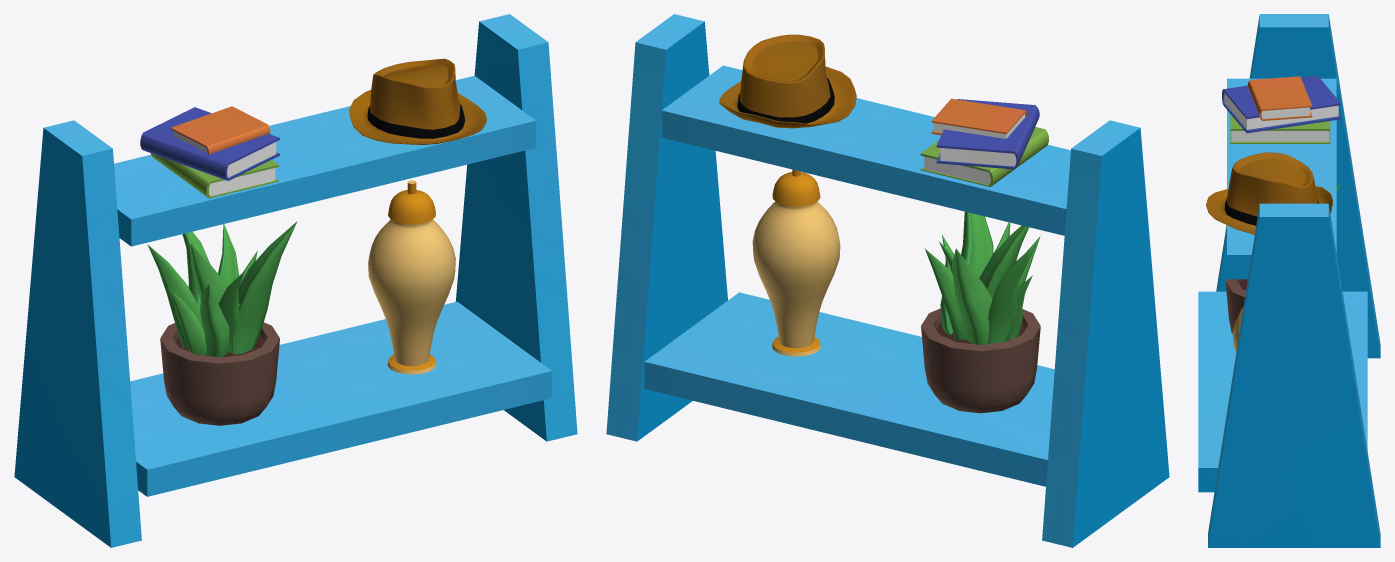
Rendered from Shelf.fbx.
3 renders of one model, left to right at view 1: azimuth 30°, elevation 25°; view 2: azimuth 150°, elevation 25°; view 3: azimuth 270°, elevation 25°, orthographic. The views are drawn at different scales.
Visible parts, largest first — view 1: shelf, Urn, Leafs, Hat, Pot, Book, Book1, Book2; view 2: shelf, Urn, Leafs, Hat, Pot, Book, Book1, Book2; view 3: shelf, Hat, Book, Book1, Book2, Pot.
Part boxes in pixels (x1,y1,x2,y2): shelf: [14, 14, 577, 547]; Urn: [368, 180, 455, 374]; Leafs: [147, 221, 297, 357]; Hat: [349, 58, 486, 144]; Pot: [160, 322, 279, 425]; Book: [140, 107, 279, 180]; Book1: [170, 106, 270, 154]; Book2: [150, 153, 278, 198]; shelf: [606, 14, 1169, 547]; Urn: [752, 169, 840, 356]; Leafs: [925, 211, 1040, 344]; Hat: [719, 34, 856, 128]; Pot: [921, 308, 1040, 413]; Book: [936, 99, 1039, 169]; Book1: [931, 98, 1027, 138]; Book2: [920, 127, 1048, 186]; shelf: [1198, 14, 1380, 547]; Hat: [1206, 152, 1333, 234]; Book: [1222, 75, 1340, 133]; Book1: [1247, 76, 1312, 120]; Book2: [1230, 114, 1330, 143]; Pot: [1225, 279, 1247, 334].
Size of the model in its own units: 352 by 267 by 133.
